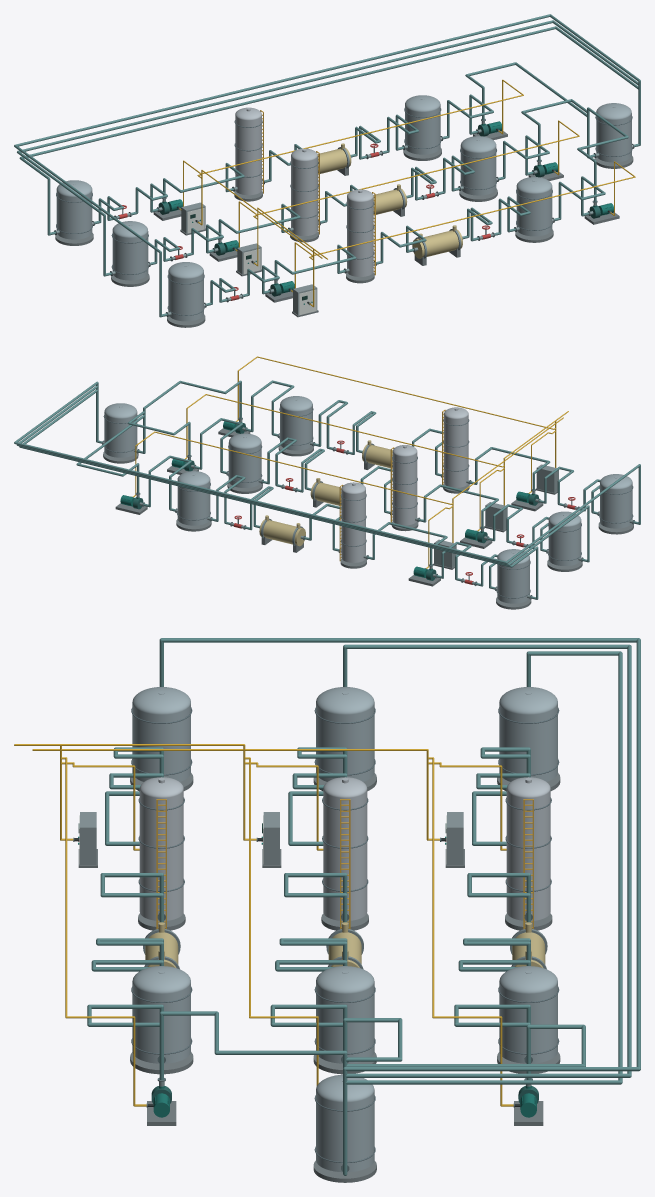
Rendered from demo-water-plant-r1.glb.
3 views of the same model, one above another, from view 1: azimuth 30°, elevation 25°; view 2: azimuth 150°, elevation 25°; view 3: azimuth 270°, elevation 25° (orthographic). The views are drawn at different scales.
Visible parts, largest first — view 1: LINE-031, LINE-020, LINE-009, F-203, F-202, F-201, TK-103, TK-102, TK-202, TK-203, TK-201, TK-101 (+22 smaller); view 2: LINE-031, F-202, F-203, F-201, TK-202, TK-103, TK-203, TK-301, TK-102, TK-201, LINE-020, TK-101 (+25 smaller); view 3: F-202, F-201, F-203, LINE-031, TK-301, TK-203, LINE-020, TK-201, TK-202, TK-101, TK-102, TK-103 (+22 smaller).
Part boxes in pixels (x1,y1,x2,y2): LINE-031: (14, 14, 640, 317); LINE-020: (17, 20, 640, 276); LINE-009: (19, 26, 640, 235); F-203: (343, 189, 376, 283); F-202: (288, 148, 320, 242); F-201: (232, 107, 265, 201); TK-103: (166, 262, 206, 327); TK-102: (110, 221, 150, 286); TK-202: (458, 136, 498, 201); TK-203: (514, 177, 554, 242); TK-201: (402, 95, 443, 160); TK-101: (54, 180, 94, 245); LINE-031: (14, 381, 640, 563); F-202: (390, 445, 420, 531); F-203: (441, 407, 471, 493); F-201: (338, 482, 368, 568); TK-202: (226, 433, 263, 493); TK-103: (597, 474, 634, 534); TK-203: (277, 396, 314, 456); TK-301: (102, 403, 139, 463); TK-102: (546, 511, 583, 571); TK-201: (175, 471, 212, 531); LINE-020: (17, 386, 589, 565); TK-101: (495, 549, 532, 609); F-202: (321, 777, 368, 930); F-201: (505, 777, 552, 930); F-203: (138, 777, 185, 930); LINE-031: (159, 638, 640, 1174); TK-301: (313, 1074, 376, 1182); TK-203: (130, 966, 193, 1074); LINE-020: (343, 644, 631, 1173); TK-201: (497, 966, 560, 1073); TK-202: (313, 966, 376, 1074); TK-101: (497, 687, 560, 791); TK-102: (313, 687, 376, 791); TK-103: (130, 687, 193, 791).
Size of the model in its own units: 55.54 by 8.58 by 34.17.
